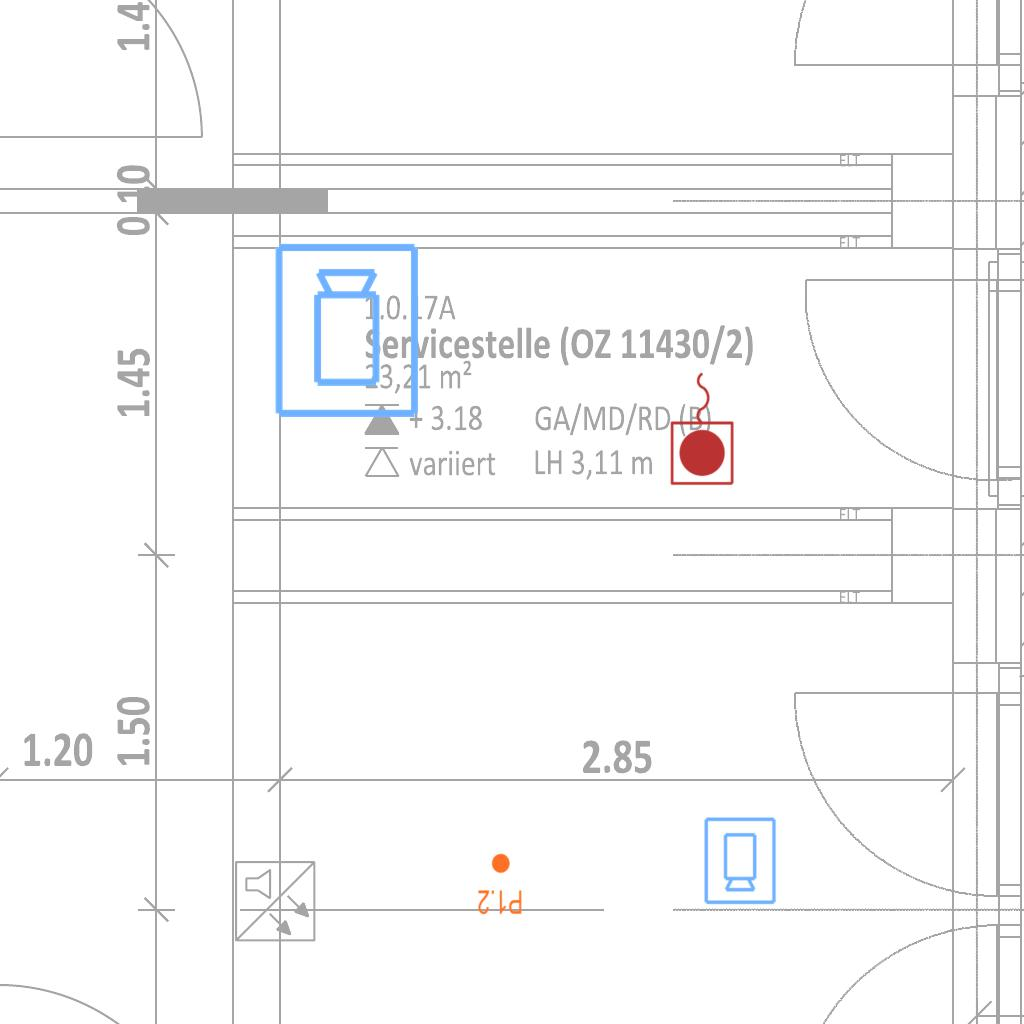Downlight_LED_Einbauleuchten_Flur: (477, 852, 523, 916)
KFO_Kamera_mit_Festobjektiv: (271, 240, 425, 422), (701, 815, 778, 906)
Zugtaster: (667, 367, 739, 489)
